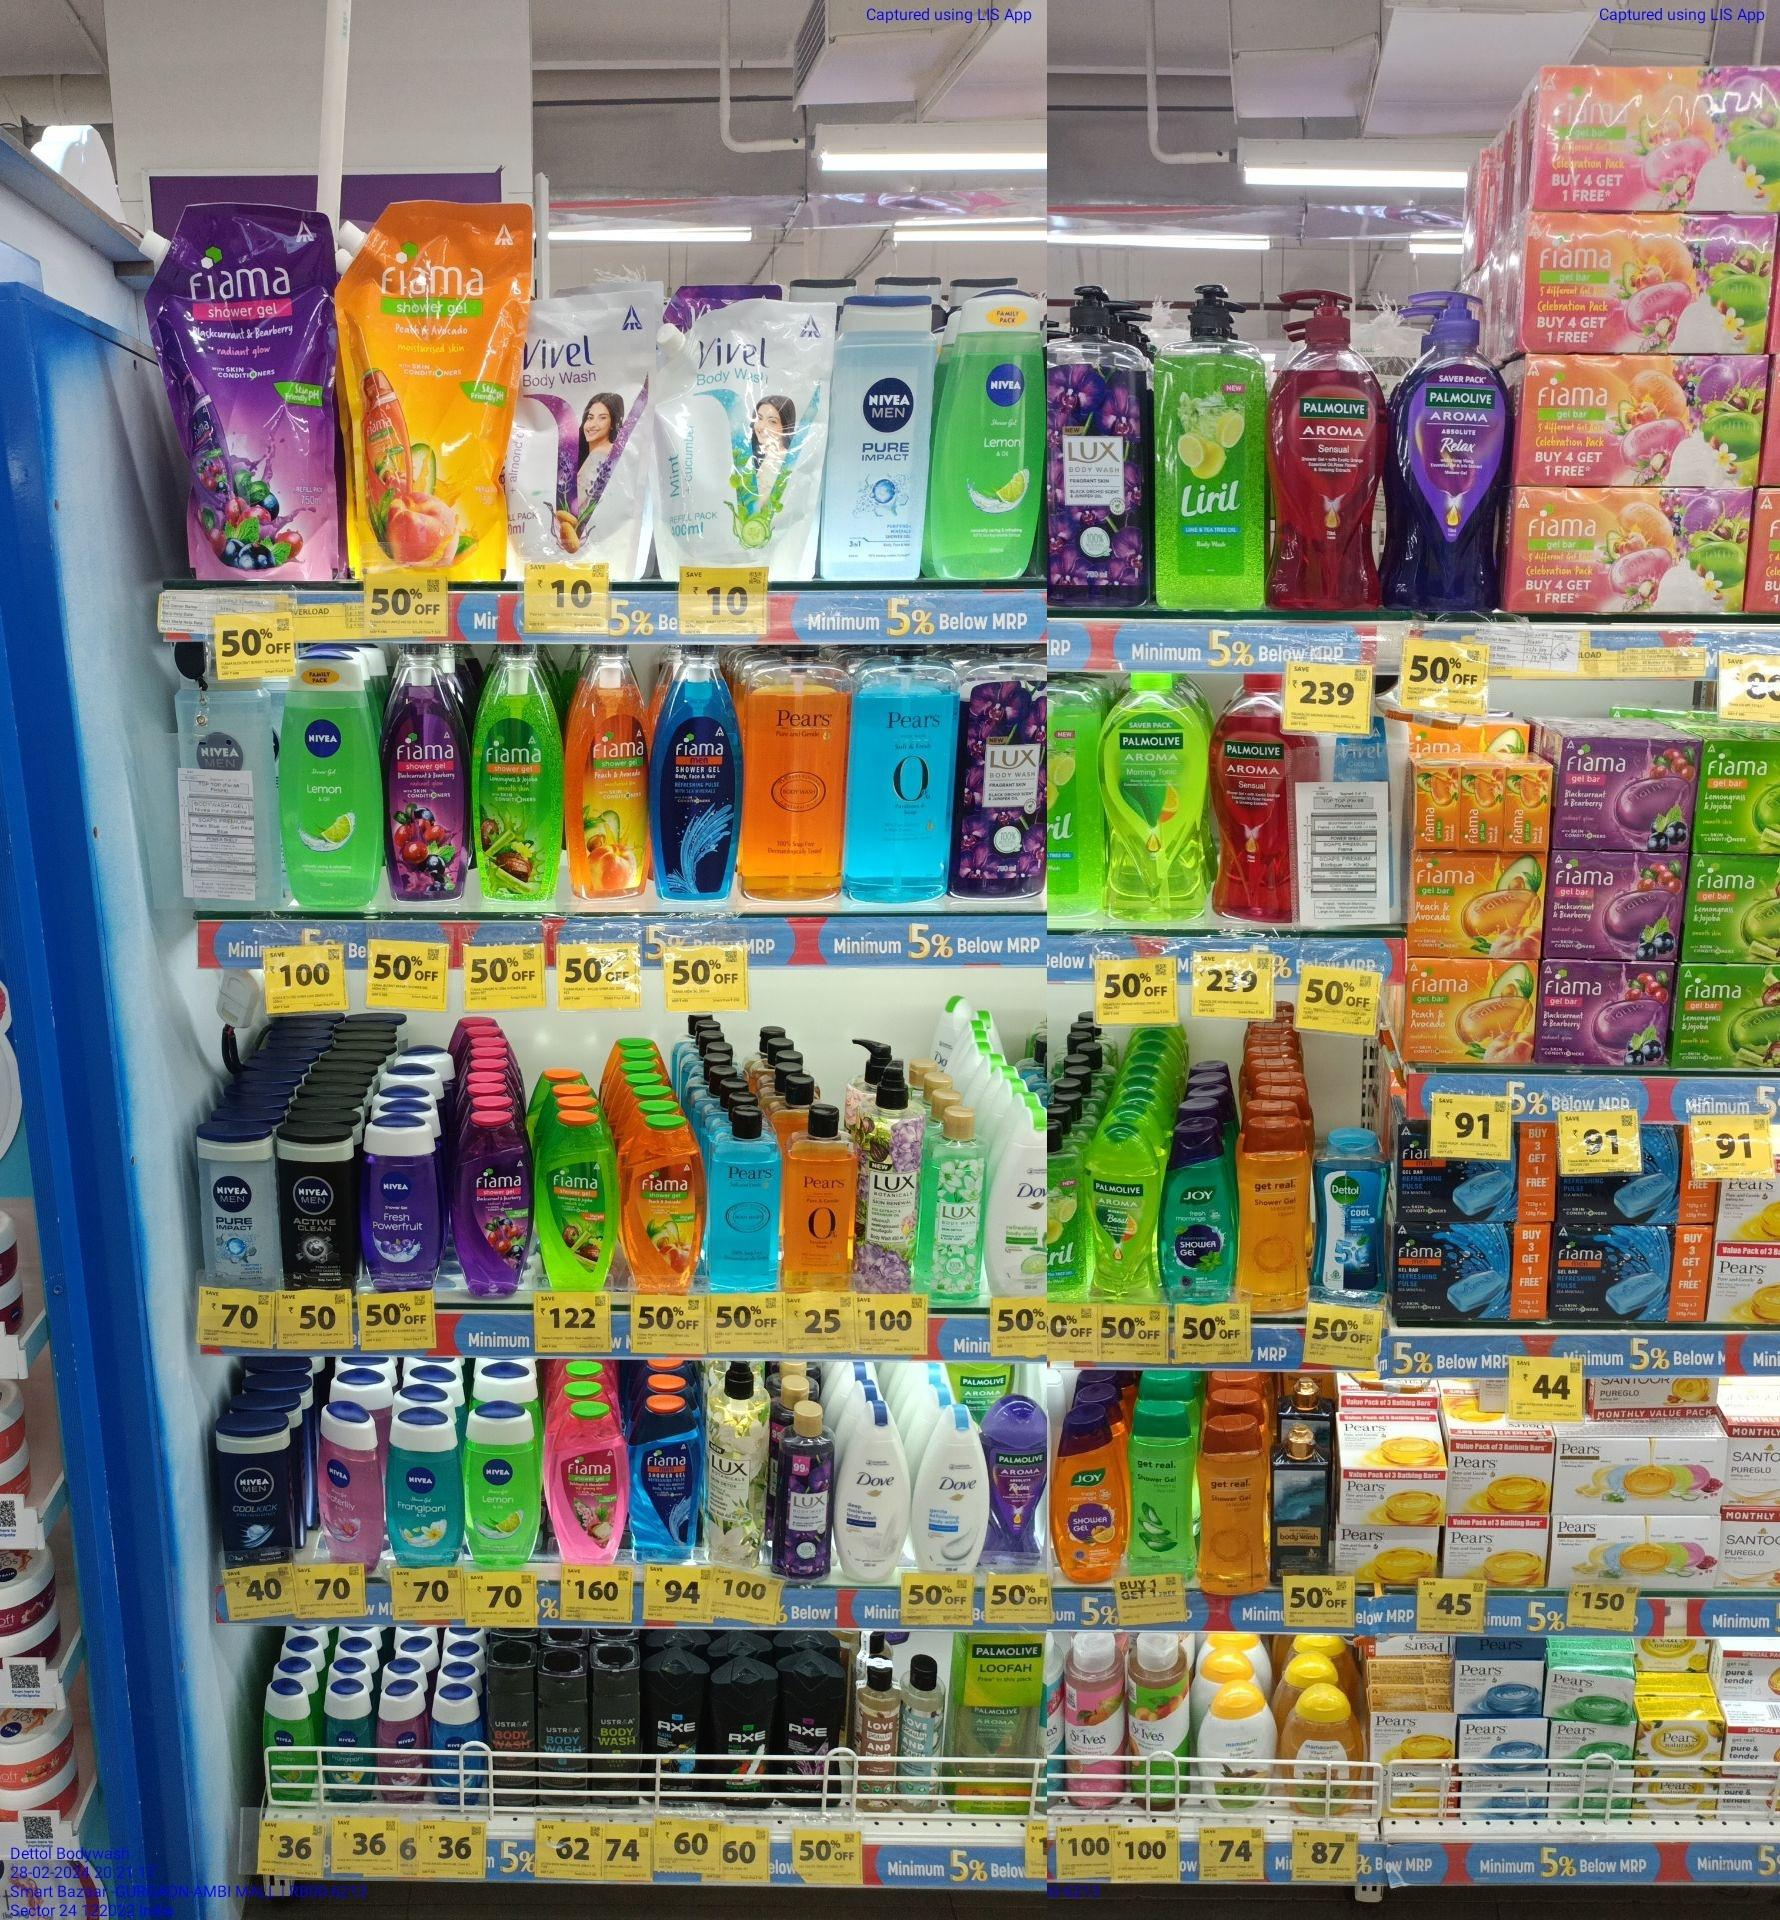Dettol_Bodywash_Cool: (1313, 1126, 1389, 1300)
Dove_Deep_Moisture_Body_Wash_250ML: (836, 1403, 907, 1584)
Dove_Gentle_Exfoliating_Body_Wash_250ML: (912, 1403, 990, 1570)
Fiama_Shower_Gel_Lemongrass_and_Jojoba_250ML: (472, 642, 562, 906), (537, 1109, 617, 1289)
Fiama_Shower_Gel_Patchouli_and_Macadamia_250ML: (542, 1413, 626, 1565)
Fiama_Shower_Gel_Peach_and_Avocado_250ML: (621, 1111, 703, 1289)
Joy_Shower_Gel_Mandarin_and_Lemongrass_250ML: (1054, 1410, 1128, 1584)
Joy_Shower_Gel_Mint_and_Eucalyptus_250ML: (1164, 1121, 1238, 1301)
Lux_Black_Orchid_Scent_and_Juniper_Oil_Body_Wash_245ML: (771, 1400, 833, 1584)
Lux_Body_Wash_Skin_Detox_Freesia_Scent_and_Alove_Vera_245ML: (923, 1104, 992, 1303)
Nivea_Shower_Gel_Frangipani_and_Oil_250ML: (388, 1408, 462, 1557)
Nivea_Shower_Gel_Fresh_Powerfruit_250ML: (361, 1117, 438, 1289)
Nivea_Shower_Gel_Lemon_and_Oil_250ML: (278, 652, 385, 913), (462, 1393, 542, 1567)
Nivea_Shower_Gel_Waterlily_and_Oil_250ML: (315, 1393, 385, 1550)
Palmolive_Aroma_Relax_250ML: (992, 1407, 1047, 1569)
Pears_Pure_Glycerin_and_Mint_Extracts_Body_Wash_250ML: (850, 647, 954, 891), (709, 1111, 780, 1291)
